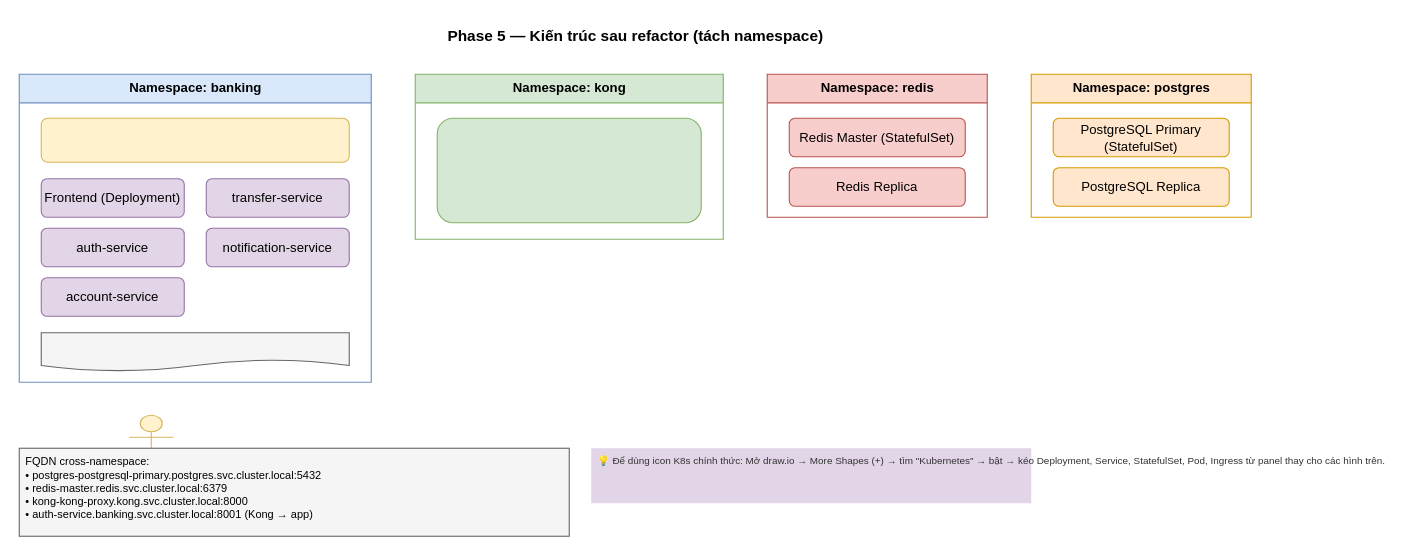
The diagram is 1405 pixels wide and 556 high, and some of its shapes have lost their labels. The shapes that lost their labels are listed below. From the top down, each one's centre as x and y in pixels, then its label:
At point (194, 139): "Ingress (HAProxy) / → frontend, /api & /ws → Kong".
At point (568, 170): "Kong (Deployment) DB mode · Proxy :8000 · Admin :8001".
At point (194, 351): "Secret (DATABASE_URL, REDIS_URL)".
